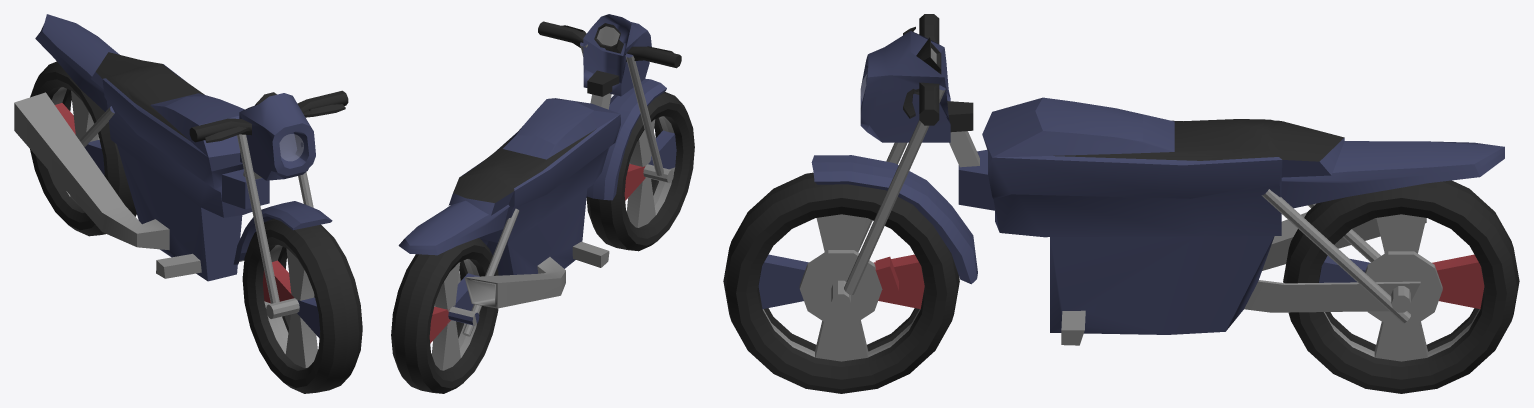
The picture shows the model from 3 angles, left to right: view 1: azimuth 30°, elevation 25°; view 2: azimuth 150°, elevation 25°; view 3: azimuth 270°, elevation 25°; orthographic projection. The views are drawn at different scales.
Visible parts, largest first — view 1: Moto_Body, F_Tire, manubrio, B_Tire, Headlight; view 2: Moto_Body, B_Tire, F_Tire, manubrio; view 3: Moto_Body, F_Tire, B_Tire, manubrio.
Part boxes in pixels (<box>): Moto_Body: <box>14,14,269,281</box>; F_Tire: <box>242,218,362,393</box>; manubrio: <box>189,90,348,318</box>; B_Tire: <box>30,61,136,236</box>; Headlight: <box>280,134,303,160</box>; Moto_Body: <box>398,70,620,336</box>; B_Tire: <box>391,238,498,393</box>; F_Tire: <box>586,92,694,251</box>; manubrio: <box>538,14,681,200</box>; Moto_Body: <box>947,97,1504,345</box>; F_Tire: <box>723,172,959,393</box>; B_Tire: <box>1283,180,1519,393</box>; manubrio: <box>799,14,977,324</box>.
Size of the model in its own units: 0.7192 by 1.24 by 2.53.
